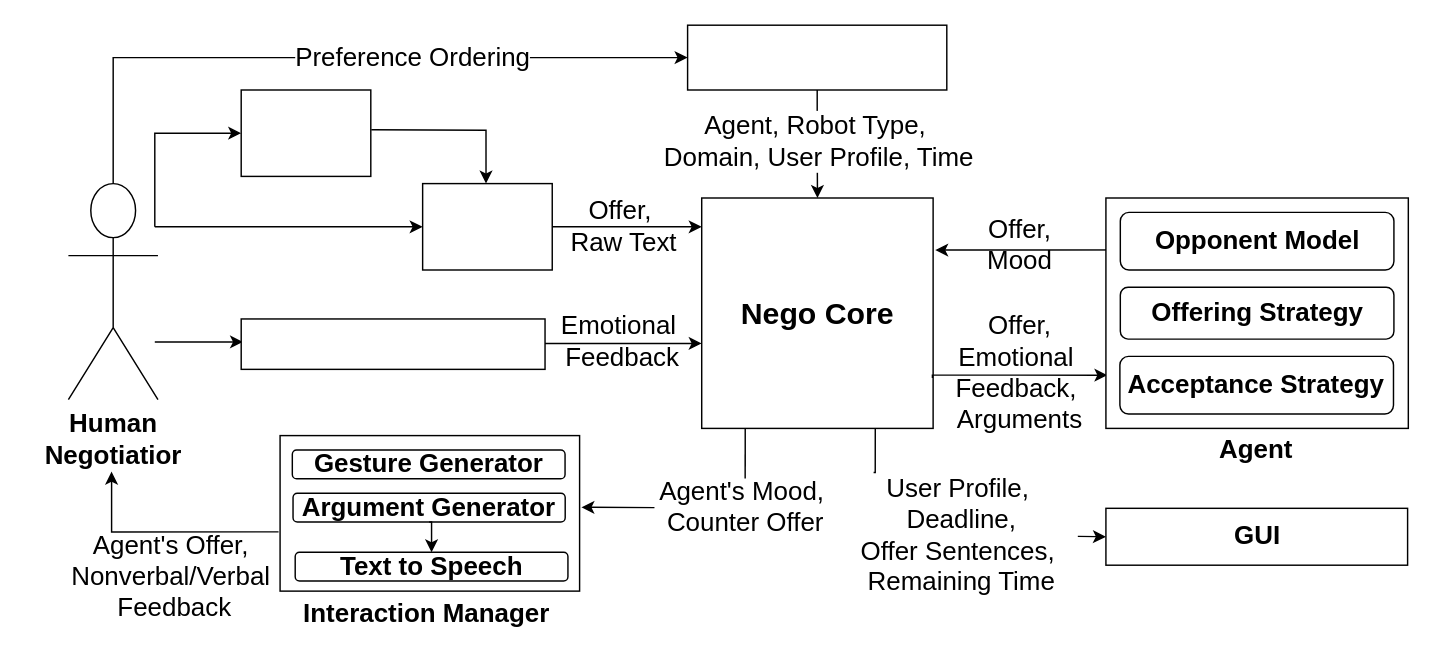
Some shapes in this 1433 by 655 pixel diagram are drawn without their labels. Here are the shapes that lost their labels. From the top down, the centre of each, then its label:
At point (816, 57): "Configuration Manager".
At point (305, 132): "Speech To Text".
At point (486, 226): "Text To Offer".
At point (392, 343): "Emotional Modeling".
